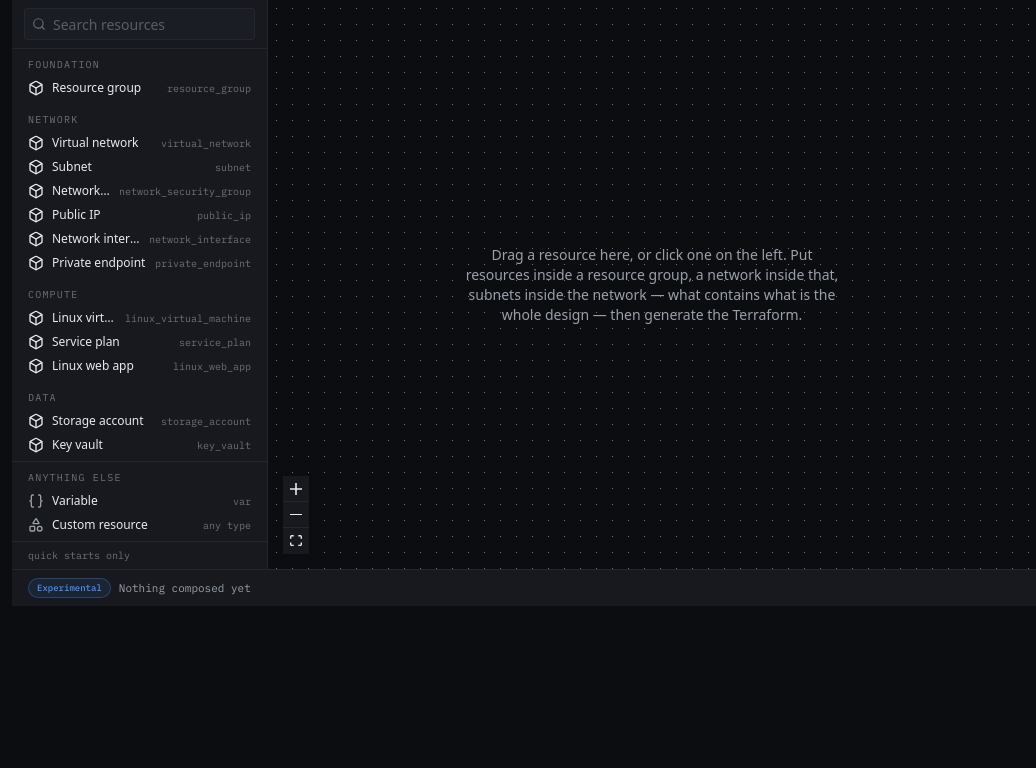
it: flags a required attribute nobody filled in, on the node and in the form
Click the button "Resource group resource_group". click: (140,88)
box: 12,76 -> 267,100
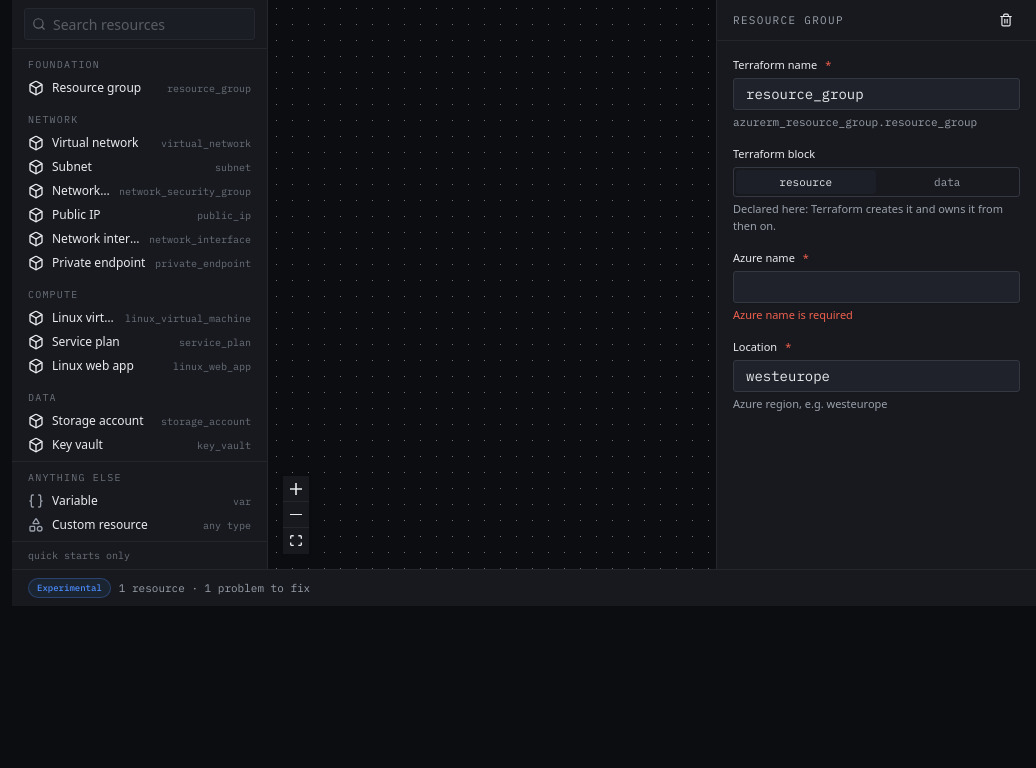
Result: the message shows "1 problem to fix" at 119,580 -> 310,594
Result: the text "Azure name is required" is shown at 733,306 -> 853,322
Type "rg-demo" into the field labelled "Azure name *". click: (876,286)
box: 733,270 -> 1020,302
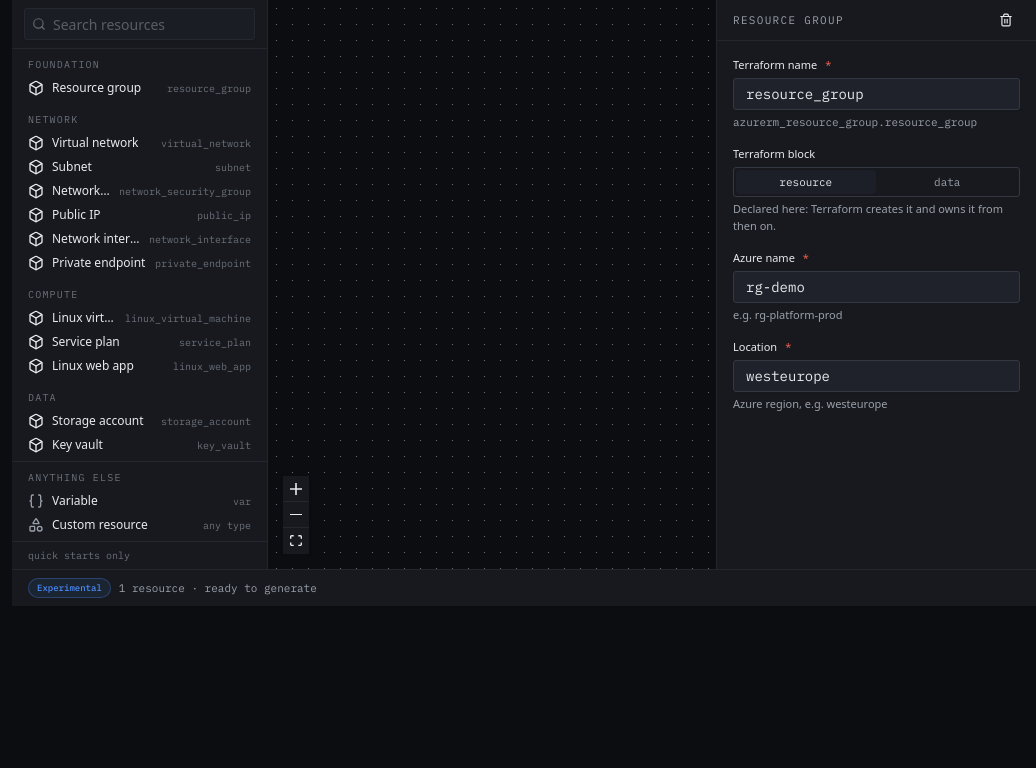
Result: the message reads "1 resource · ready to generate" at 119,580 -> 317,594
